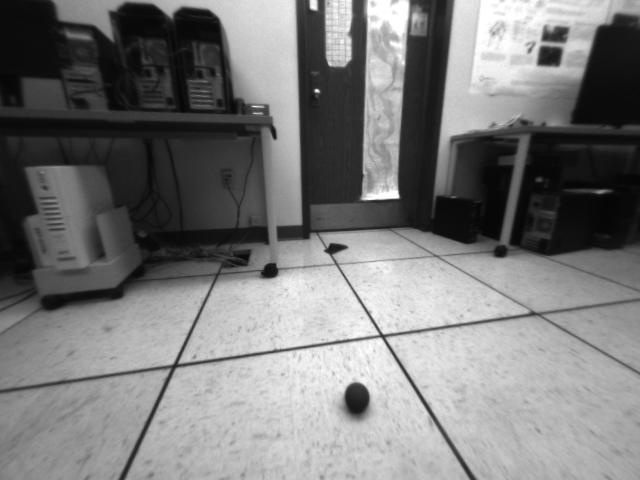dogtoy: (340, 375, 375, 419)
